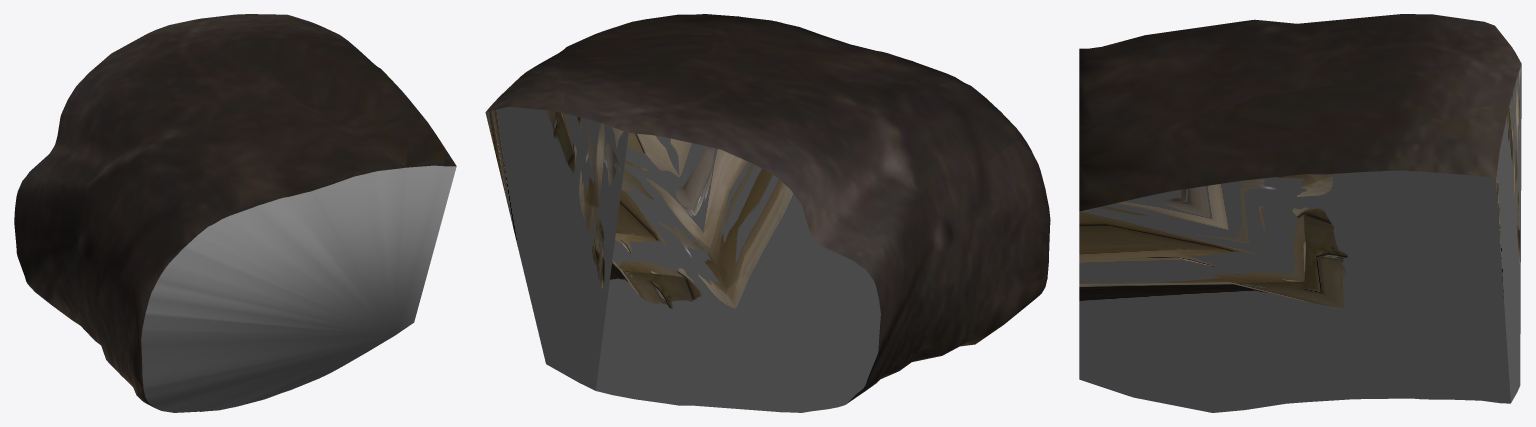
File: fragment3.obj
The picture shows the model from 3 angles, left to right: view 1: azimuth 30°, elevation 25°; view 2: azimuth 150°, elevation 25°; view 3: azimuth 270°, elevation 25°; orthographic projection. The views are drawn at different scales.
Parts seen in each view (by area): view 1: sculpt_cell.003; view 2: sculpt_cell.003; view 3: sculpt_cell.003.
Part boxes in pixels (x1,y1,x2,y2): sculpt_cell.003: [14, 14, 456, 412]; sculpt_cell.003: [485, 14, 1050, 412]; sculpt_cell.003: [1079, 14, 1521, 412].
Bounding box in the file's own units: 6.08 × 4.59 × 5.33.
1 material, 1 textured.
